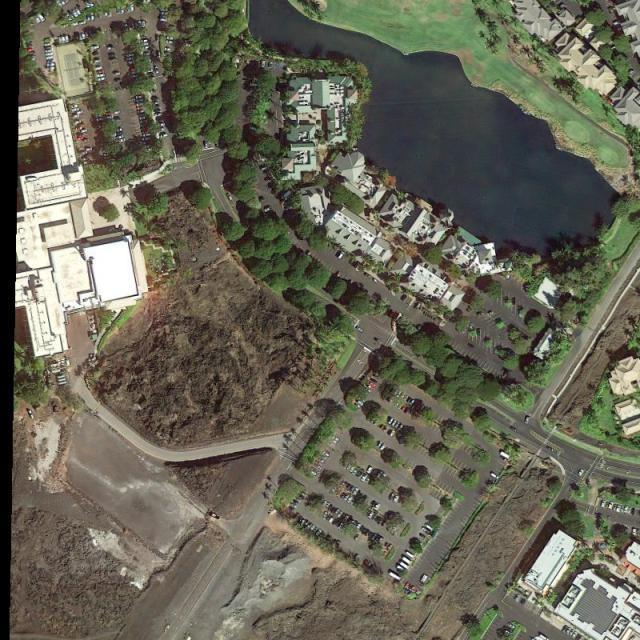vehicle: (388, 571, 402, 582), (401, 555, 413, 566), (398, 560, 410, 571), (282, 190, 292, 201), (37, 13, 47, 23), (396, 565, 407, 574), (405, 550, 415, 559), (322, 502, 331, 511), (369, 500, 378, 509), (349, 465, 358, 474), (342, 515, 350, 525), (360, 494, 368, 504), (334, 539, 342, 549), (346, 462, 354, 472), (397, 423, 405, 433), (346, 518, 354, 527), (336, 510, 344, 519), (333, 509, 341, 518), (326, 504, 334, 513), (367, 510, 375, 519), (365, 475, 373, 484), (392, 494, 400, 503), (388, 492, 396, 501), (330, 485, 338, 494), (335, 489, 344, 497), (341, 482, 350, 490), (355, 493, 364, 501), (373, 502, 381, 511), (320, 500, 328, 509), (302, 519, 310, 528), (352, 554, 361, 562), (362, 558, 370, 567), (425, 523, 434, 531), (422, 527, 431, 535), (355, 326, 364, 334), (311, 466, 319, 475), (379, 473, 387, 482), (375, 470, 383, 479), (507, 622, 516, 630), (538, 634, 550, 640), (390, 526, 397, 536), (322, 511, 329, 521), (28, 410, 35, 420), (258, 158, 268, 165), (571, 630, 578, 640), (339, 514, 347, 522), (335, 478, 343, 486), (348, 486, 356, 494), (305, 522, 313, 530), (370, 534, 378, 542), (374, 535, 382, 543), (386, 544, 394, 552), (290, 502, 298, 510), (297, 493, 305, 501), (360, 474, 368, 482), (358, 472, 366, 480), (394, 400, 402, 408), (328, 441, 336, 449), (322, 450, 330, 458), (366, 466, 374, 474), (370, 416, 378, 424), (56, 1, 64, 9), (34, 16, 42, 24), (226, 194, 234, 202), (627, 69, 635, 77), (352, 500, 359, 509), (358, 525, 365, 534), (355, 523, 362, 532), (352, 521, 359, 530), (352, 487, 359, 496), (343, 493, 350, 502), (352, 466, 359, 475), (389, 395, 396, 404), (332, 435, 341, 442), (578, 469, 585, 478), (490, 472, 499, 479), (374, 515, 381, 523), (350, 498, 357, 506), (347, 496, 354, 504), (345, 484, 352, 492), (340, 491, 347, 499), (326, 515, 333, 523), (312, 526, 319, 534), (315, 530, 322, 538), (366, 562, 373, 570), (416, 540, 424, 547), (332, 518, 339, 526), (334, 520, 342, 527), (360, 527, 367, 535), (338, 522, 345, 530), (295, 496, 302, 504), (415, 302, 422, 310), (338, 252, 345, 260), (375, 338, 383, 345), (419, 405, 426, 413), (398, 402, 405, 410), (364, 386, 372, 393), (403, 394, 410, 402), (391, 419, 398, 427), (72, 10, 79, 18), (75, 8, 82, 16), (613, 20, 621, 27), (568, 629, 575, 637), (561, 626, 568, 634), (510, 426, 518, 433), (381, 519, 387, 528), (370, 378, 379, 384), (61, 24, 70, 30), (70, 104, 79, 110), (630, 507, 636, 516), (627, 506, 633, 515), (524, 415, 530, 424), (70, 108, 80, 113), (330, 507, 337, 514), (334, 487, 341, 494), (328, 517, 335, 524), (309, 525, 316, 532), (364, 530, 371, 537), (379, 444, 386, 451), (399, 393, 406, 400), (394, 422, 401, 429), (565, 627, 572, 634), (378, 518, 384, 526), (300, 518, 306, 526), (294, 513, 300, 521), (378, 538, 384, 546), (354, 534, 360, 542), (404, 406, 410, 414), (402, 294, 408, 302), (330, 438, 338, 444), (317, 457, 325, 463), (314, 460, 322, 466), (314, 464, 322, 470), (383, 425, 389, 433), (374, 418, 380, 426), (369, 381, 377, 387), (365, 383, 373, 389), (362, 390, 370, 396), (354, 403, 362, 409), (388, 417, 394, 425), (85, 1, 91, 9), (78, 6, 84, 14), (124, 24, 130, 32), (98, 124, 106, 130), (134, 98, 146, 102), (144, 59, 152, 65), (612, 504, 618, 512), (601, 500, 607, 508), (546, 446, 554, 452), (468, 343, 476, 349), (377, 441, 382, 450), (117, 6, 122, 15), (130, 3, 135, 12), (96, 117, 105, 122), (134, 95, 145, 99), (372, 513, 378, 520), (289, 506, 296, 512), (367, 532, 374, 538), (293, 499, 299, 506), (365, 273, 372, 279), (410, 399, 416, 406), (406, 397, 413, 403), (390, 431, 396, 438), (310, 470, 317, 476), (380, 423, 386, 430), (396, 391, 402, 398), (393, 389, 399, 396), (357, 400, 364, 406), (265, 207, 272, 213), (574, 634, 581, 640), (500, 456, 507, 462), (487, 310, 494, 316), (320, 454, 328, 459), (358, 397, 366, 402), (166, 36, 174, 41), (135, 22, 140, 30), (131, 22, 136, 30), (46, 52, 54, 57), (26, 44, 34, 49), (32, 54, 37, 62), (126, 53, 134, 58), (70, 22, 78, 27), (78, 21, 86, 26), (90, 14, 95, 22), (161, 8, 169, 13), (160, 14, 168, 19), (58, 37, 63, 45), (65, 35, 70, 43), (250, 126, 258, 131), (142, 127, 150, 132), (110, 137, 118, 142), (109, 133, 117, 138), (106, 115, 114, 120), (114, 110, 122, 115), (141, 124, 149, 129), (154, 108, 162, 113), (118, 138, 126, 143), (98, 77, 106, 82), (94, 66, 102, 71), (74, 120, 82, 125), (624, 506, 629, 514), (620, 506, 625, 514), (609, 502, 614, 510), (605, 502, 610, 510), (47, 67, 56, 71), (104, 8, 108, 17), (97, 70, 106, 74), (76, 110, 85, 114), (307, 250, 313, 256), (350, 520, 355, 527), (419, 534, 426, 539), (342, 526, 347, 533), (337, 271, 342, 278), (453, 426, 458, 433), (402, 405, 407, 412), (165, 47, 172, 52), (127, 57, 134, 62), (116, 131, 123, 136), (140, 116, 147, 121), (261, 166, 268, 171), (94, 51, 101, 56), (93, 45, 100, 50), (86, 32, 91, 39), (129, 61, 136, 66), (81, 150, 88, 155), (76, 126, 83, 131), (632, 529, 637, 536), (616, 505, 621, 512), (515, 594, 520, 601), (166, 40, 174, 44), (138, 22, 142, 30), (47, 59, 55, 63), (62, 37, 66, 45), (87, 14, 91, 22), (127, 4, 131, 12), (160, 18, 168, 22), (144, 134, 152, 138), (143, 137, 151, 141), (144, 141, 152, 145), (104, 153, 112, 157), (96, 114, 104, 118), (106, 112, 114, 116), (140, 120, 148, 124), (138, 110, 146, 114), (158, 123, 166, 127), (158, 128, 166, 132), (161, 134, 169, 138), (138, 106, 146, 110), (79, 33, 83, 41), (142, 46, 150, 50), (142, 43, 150, 47), (141, 39, 149, 43), (109, 54, 117, 58), (114, 72, 122, 76), (98, 74, 106, 78), (131, 70, 139, 74), (82, 158, 90, 162), (73, 114, 81, 118), (270, 62, 274, 70), (114, 78, 122, 82), (636, 528, 640, 536), (512, 298, 516, 306), (60, 1, 66, 6), (143, 1, 153, 4), (299, 517, 303, 524), (205, 142, 209, 149), (158, 51, 162, 58), (47, 56, 54, 60), (45, 46, 52, 50), (129, 24, 133, 31), (28, 48, 35, 52), (155, 67, 159, 74), (104, 150, 111, 154), (118, 135, 125, 139), (94, 59, 101, 63), (86, 147, 93, 151), (81, 130, 88, 134), (262, 61, 266, 68), (147, 72, 154, 76), (578, 636, 585, 640), (63, 1, 70, 5), (151, 97, 158, 101), (495, 320, 502, 324), (506, 297, 510, 304), (477, 330, 481, 337), (470, 323, 474, 330), (47, 64, 56, 67), (137, 103, 146, 106), (143, 21, 146, 29), (44, 43, 52, 46), (144, 145, 152, 148), (105, 157, 113, 160), (156, 118, 164, 121), (116, 128, 122, 132), (108, 47, 116, 50), (82, 34, 86, 40), (132, 74, 138, 78), (146, 70, 154, 73), (45, 50, 52, 53), (122, 8, 125, 15), (162, 12, 169, 15), (146, 148, 153, 151), (152, 102, 159, 105), (131, 68, 138, 71), (156, 37, 160, 42), (90, 1, 94, 6), (144, 53, 150, 56), (110, 58, 118, 60), (638, 510, 640, 518), (170, 1, 177, 3), (155, 114, 162, 116), (638, 79, 640, 86)
